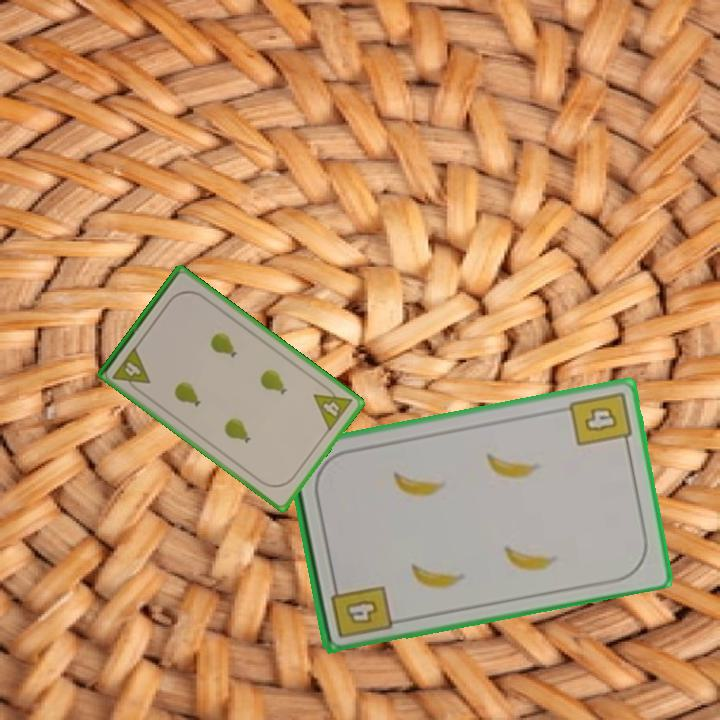4b: (327, 576, 395, 641), (566, 387, 634, 451)
4p: (310, 380, 355, 434), (109, 343, 153, 396)
